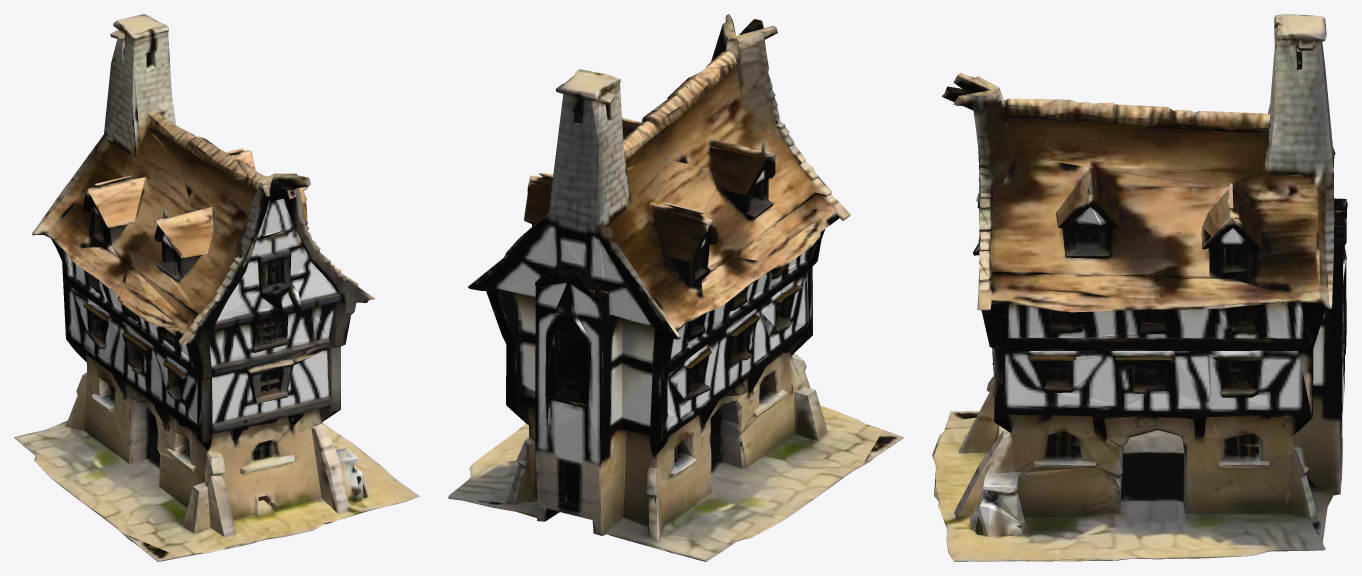
The model's file is war_house_ruin_02.glb.
3 views of the same model, side by side, from view 1: azimuth 30°, elevation 25°; view 2: azimuth 150°, elevation 25°; view 3: azimuth 270°, elevation 25° (orthographic). The views are drawn at different scales.
Parts seen in each view (by area): view 1: geometry_0; view 2: geometry_0; view 3: geometry_0.
Part boxes in pixels (x1=…): geometry_0: x1=14, y1=14, x2=419, y2=561; geometry_0: x1=448, y1=14, x2=903, y2=561; geometry_0: x1=932, y1=14, x2=1347, y2=561.
Bounding box in the file's own units: 0.6919 × 0.9981 × 0.8047.
Materials: 1 (1 with a texture image).
